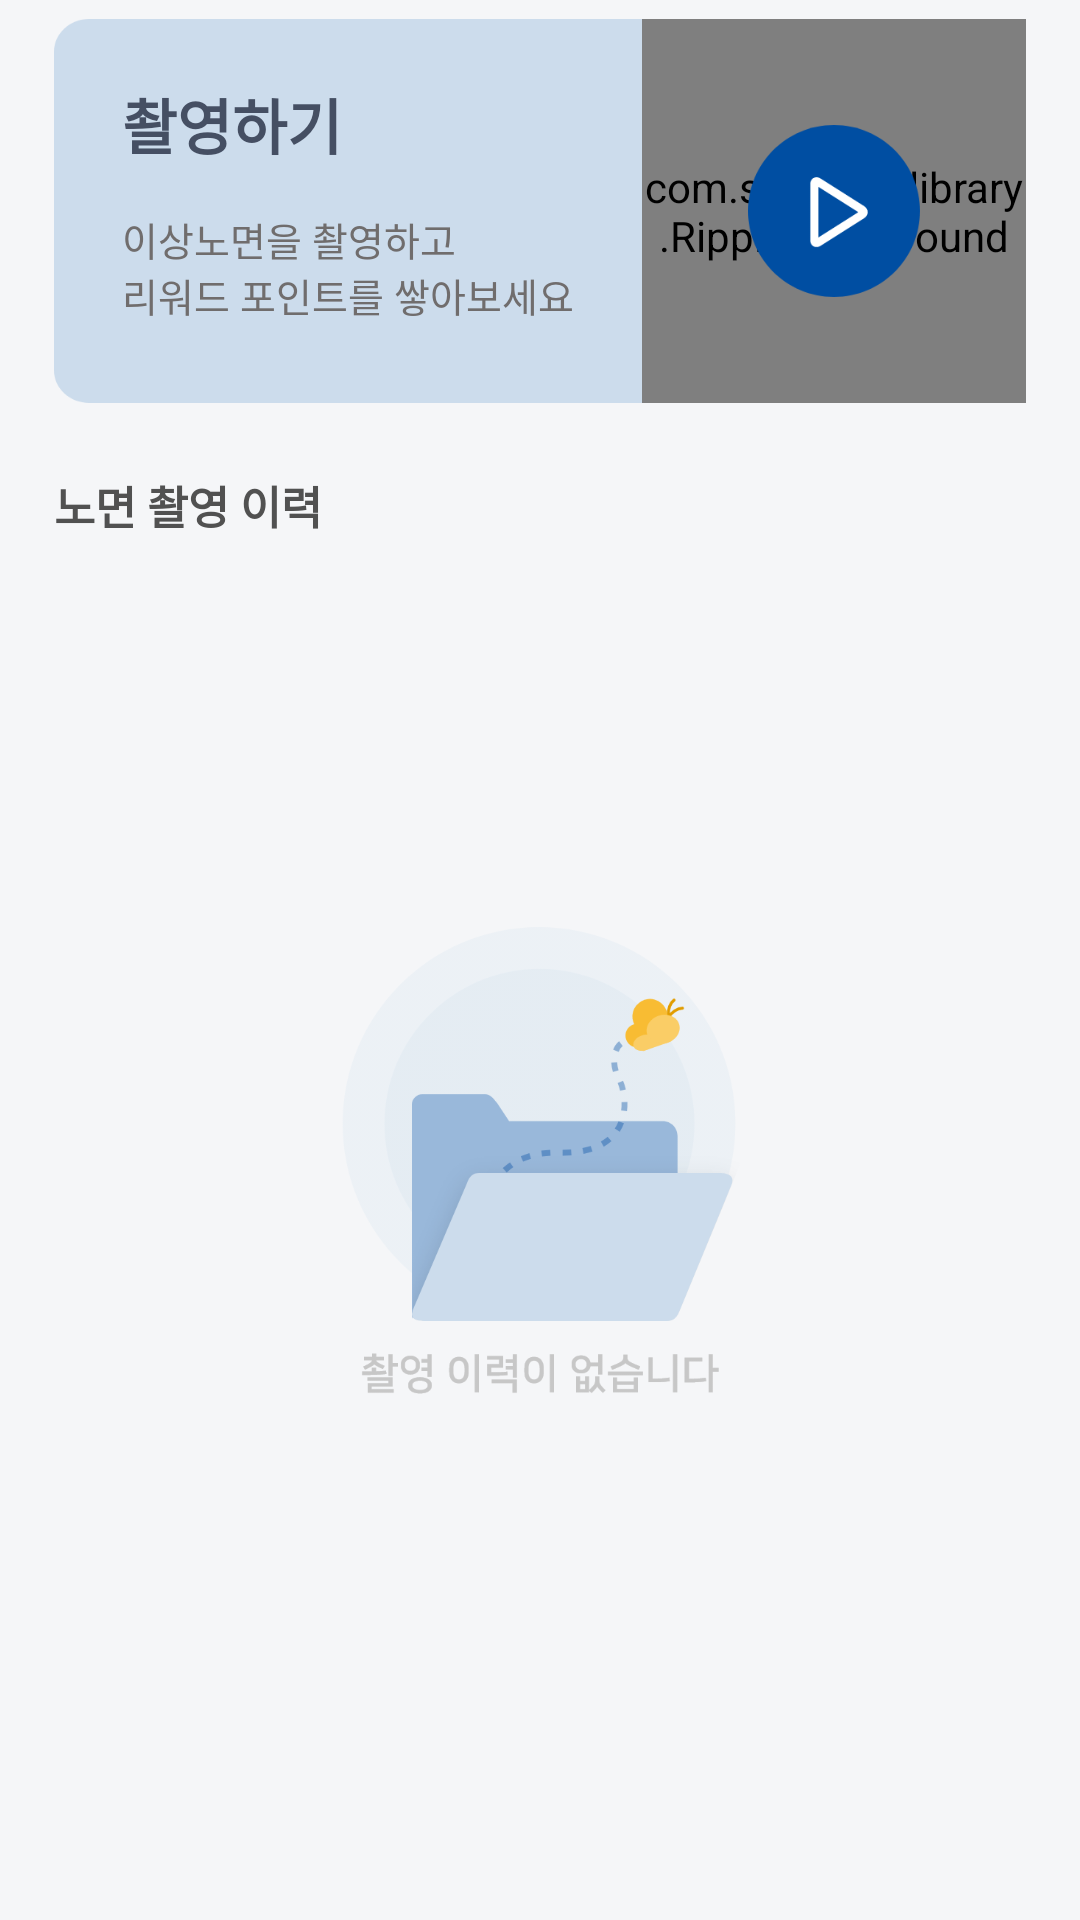

Named icons in this screenshot (1080px x 1920px) and their bounding boxes, (x1, y1, x2, y2):
play bt: (748, 125, 920, 297)
